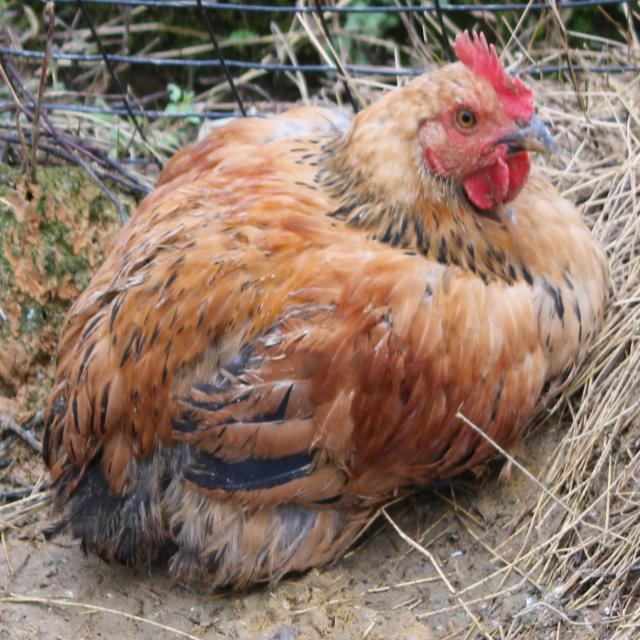cook: (68, 164, 515, 578)
